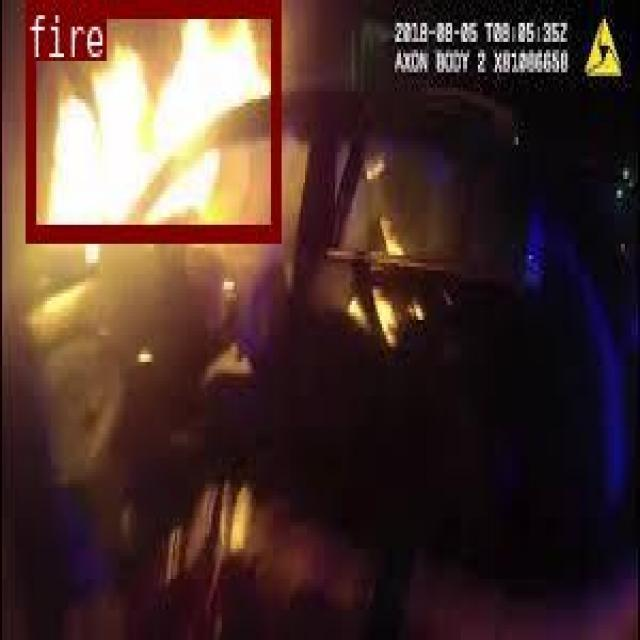fire: (24, 0, 280, 240)
